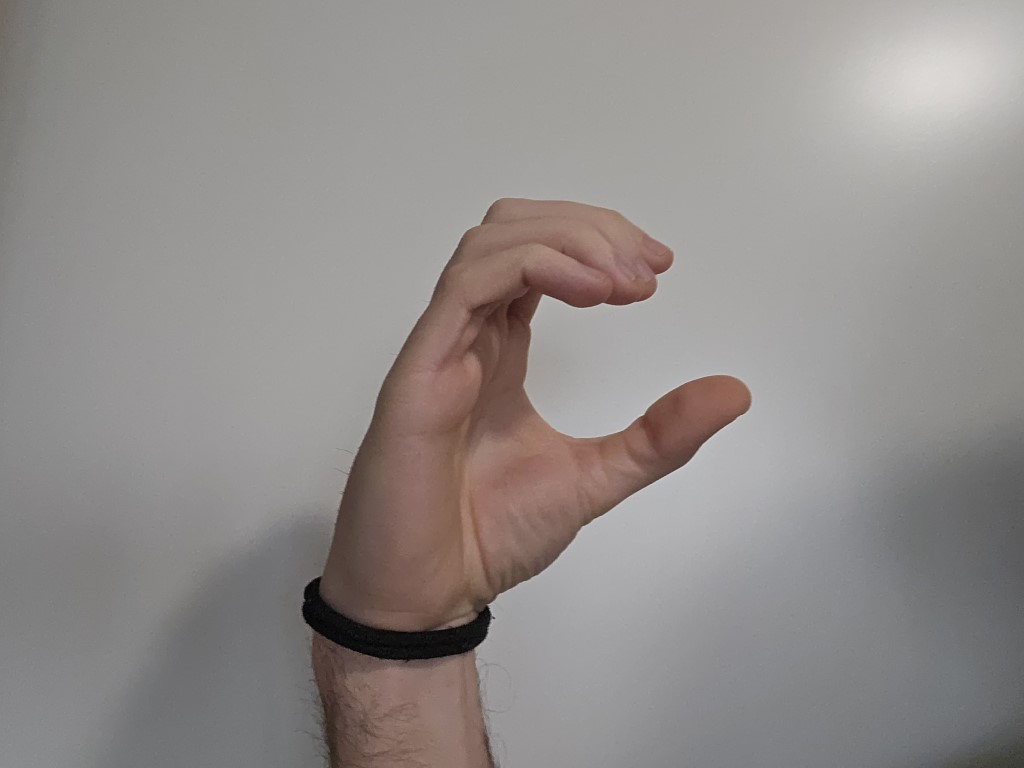c: (293, 166, 789, 613)
